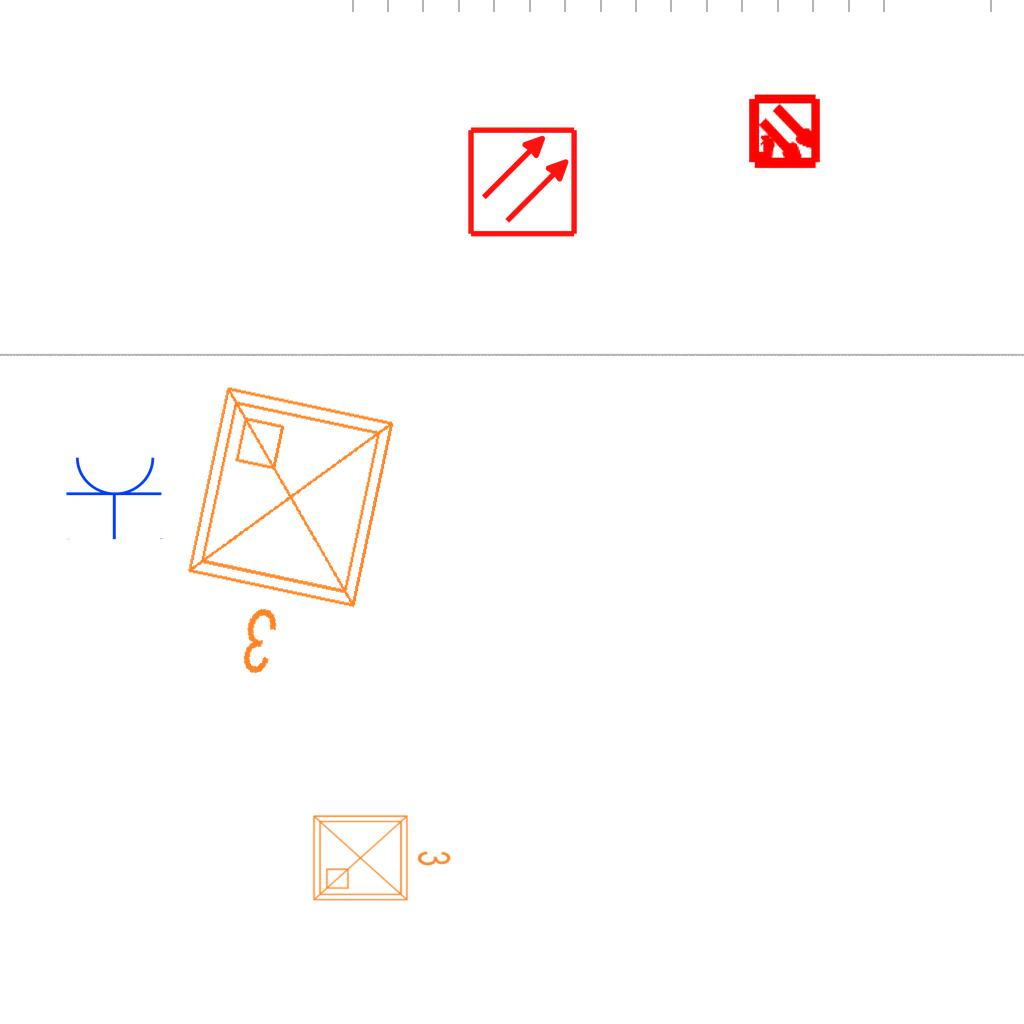Einbaudownlights_LED_Konferenzraeume: (153, 369, 419, 707), (306, 804, 456, 908)
OT_Multisensormelder_(Kombination_RMO_WMD): (728, 77, 841, 190)
RMO_Rauchmelder_optischer: (466, 125, 579, 238)
Schukosteckdose_einfach: (65, 453, 165, 540)
